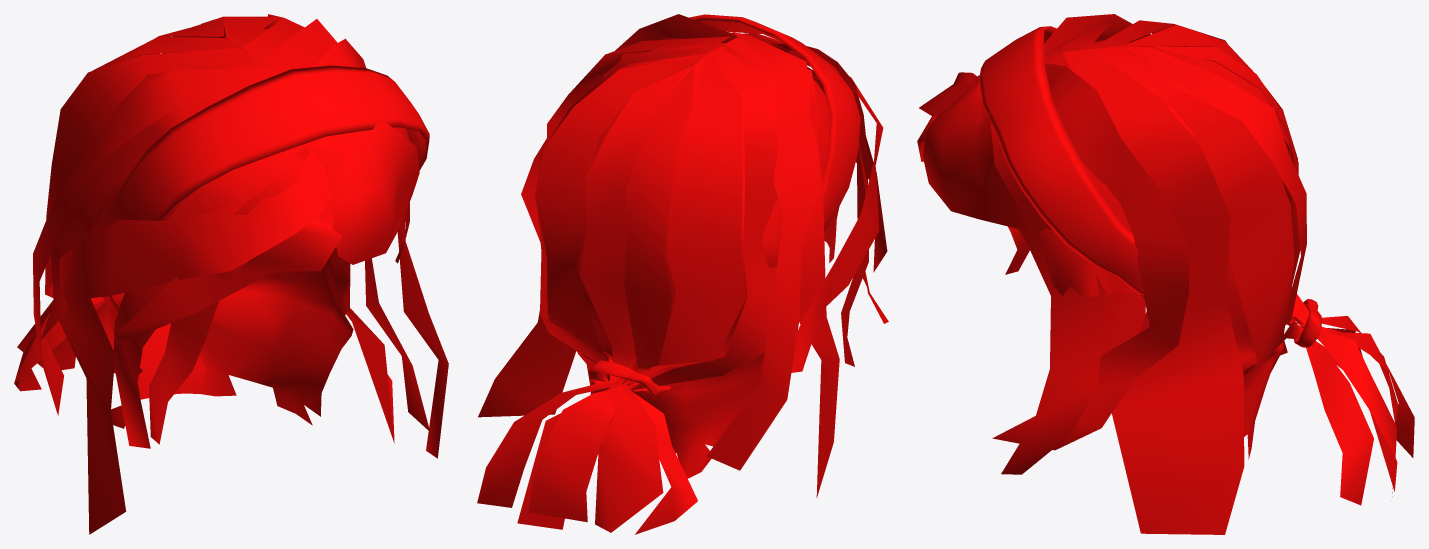
File: sonntag78_blond_with_headband_M.glb
3 renders of one model, left to right at view 1: azimuth 30°, elevation 25°; view 2: azimuth 150°, elevation 25°; view 3: azimuth 270°, elevation 25°, orthographic. The views are drawn at different scales.
Bounding box in the file's own units: 0.2472 × 0.2974 × 0.3049.
1 material, 1 textured.
